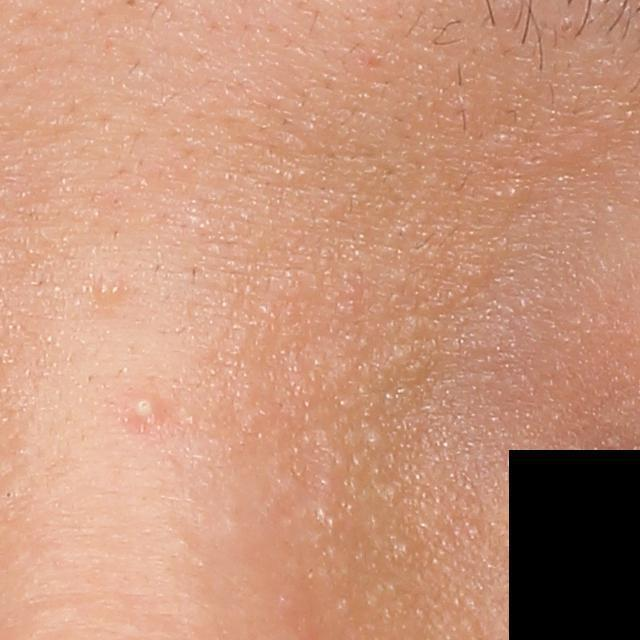comedo: (364, 427, 386, 459)
